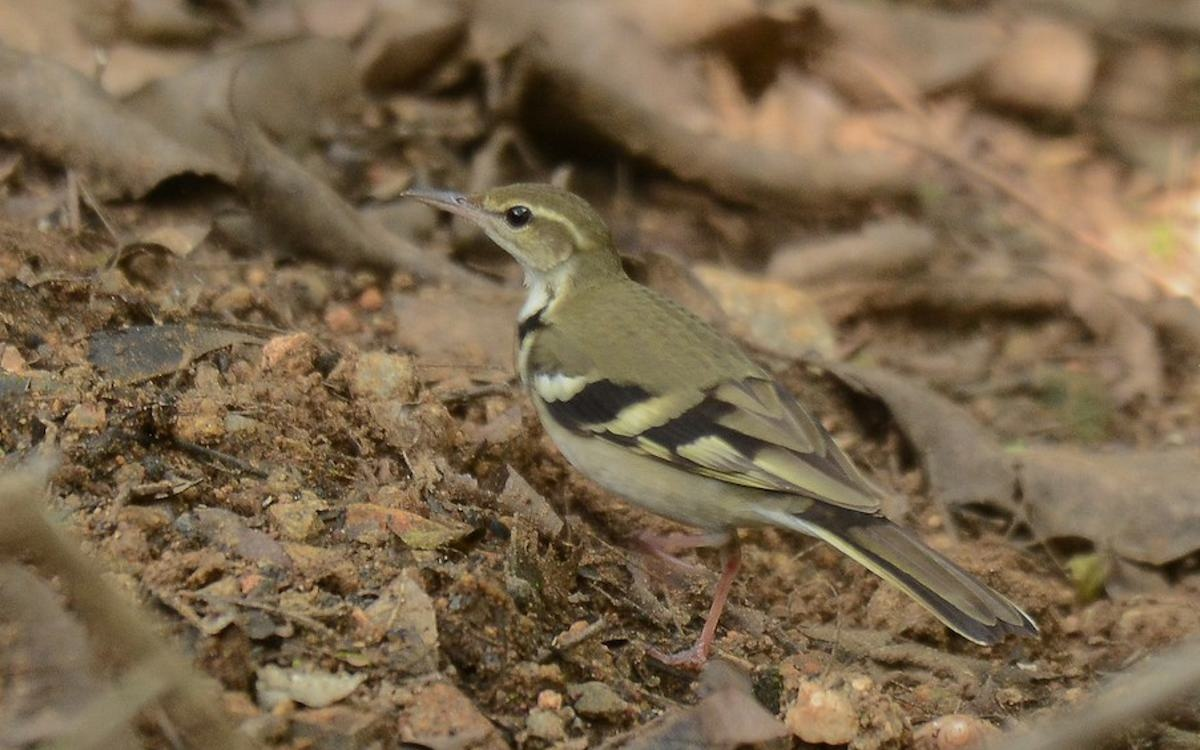wagtail: (437, 155, 994, 635)
